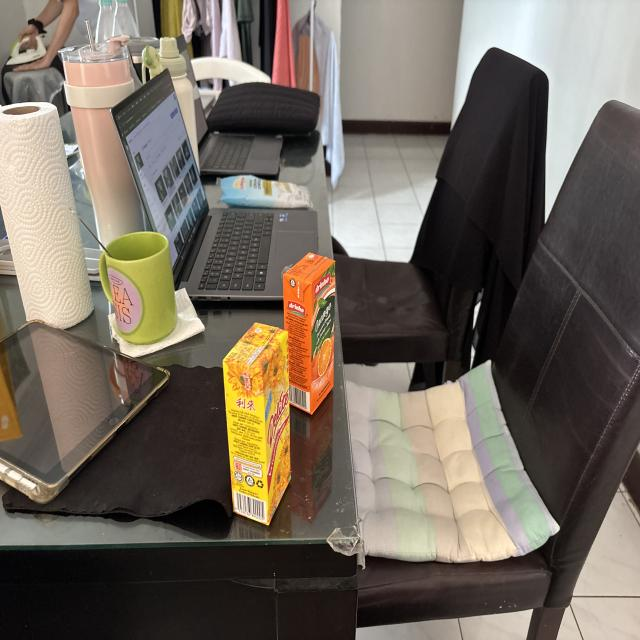drink_carton: (220, 318, 298, 532), (281, 239, 342, 421)
